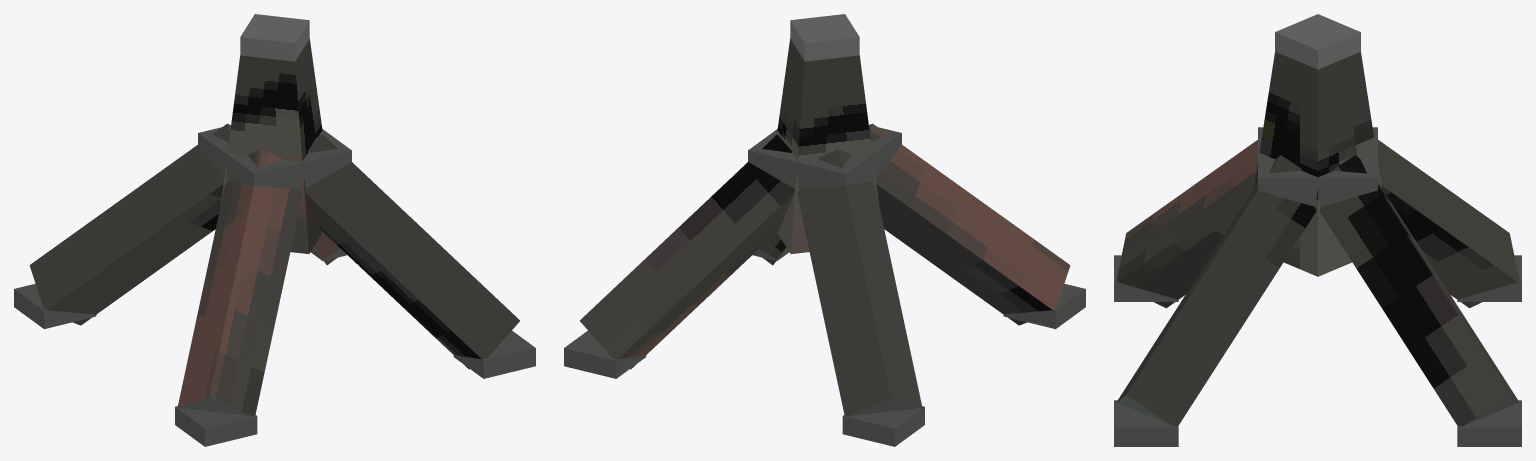
Rendered from Building_AncientTankTrap__B.glb.
The picture shows the model from 3 angles, left to right: view 1: azimuth 30°, elevation 25°; view 2: azimuth 150°, elevation 25°; view 3: azimuth 270°, elevation 25°; orthographic projection. The views are drawn at different scales.
Parts seen in each view (by area): view 1: AncientTankTrap__B; view 2: AncientTankTrap__B; view 3: AncientTankTrap__B.
Boxes of the visible parts, box(x1,y1,x2,y2) form: AncientTankTrap__B: box(14, 14, 535, 446); AncientTankTrap__B: box(564, 14, 1085, 446); AncientTankTrap__B: box(1114, 14, 1521, 446).
Size of the model in its own units: 0.95 by 0.8749 by 0.95.
Materials: 1 (1 with a texture image).
